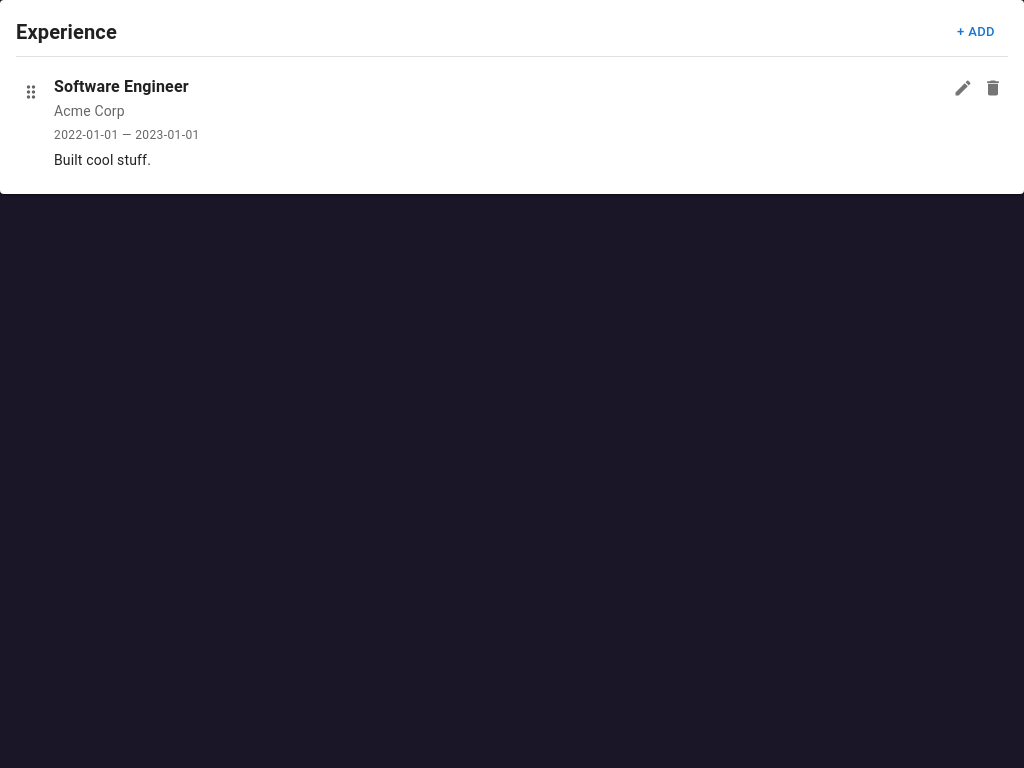
Test: ExperienceSection › opens edit dialog pre-filled with existing entry
The image size is (1024, 768).
Click the button named "edit experience" at [963, 88], box [948,73,978,103]
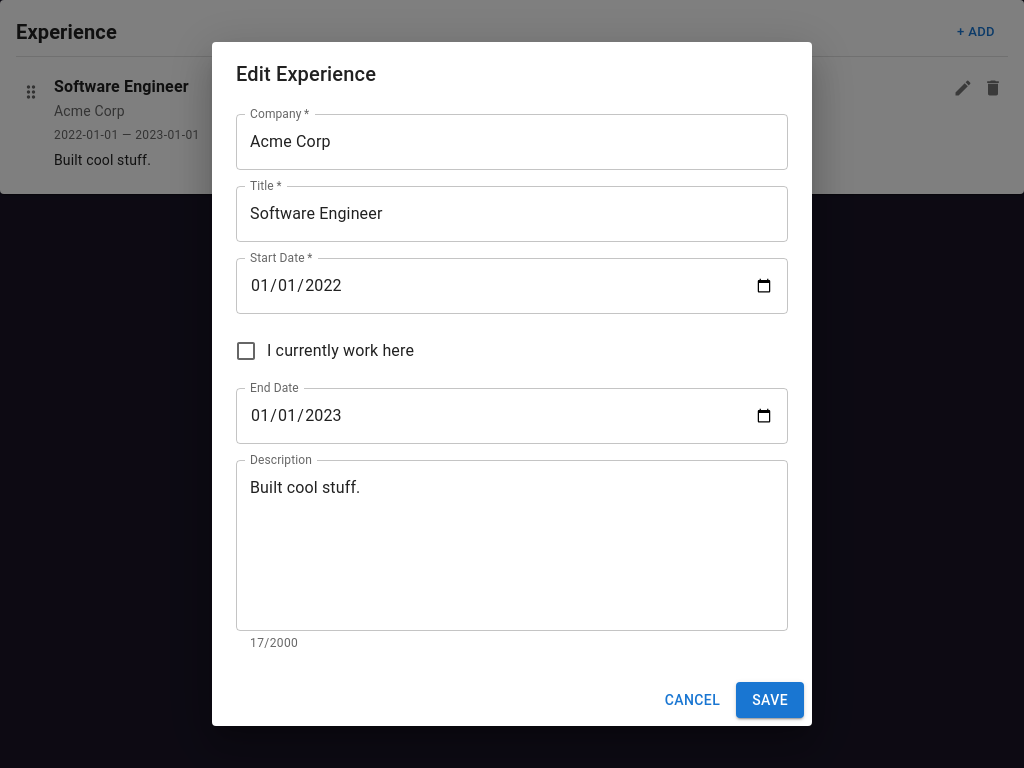
Now the heading "Edit Experience" is shown, box [236,62,376,86]
Now the field showing "Acme Corp" is shown, box [236,114,788,170]
Now the field showing "Software Engineer" is shown, box [236,186,788,242]
